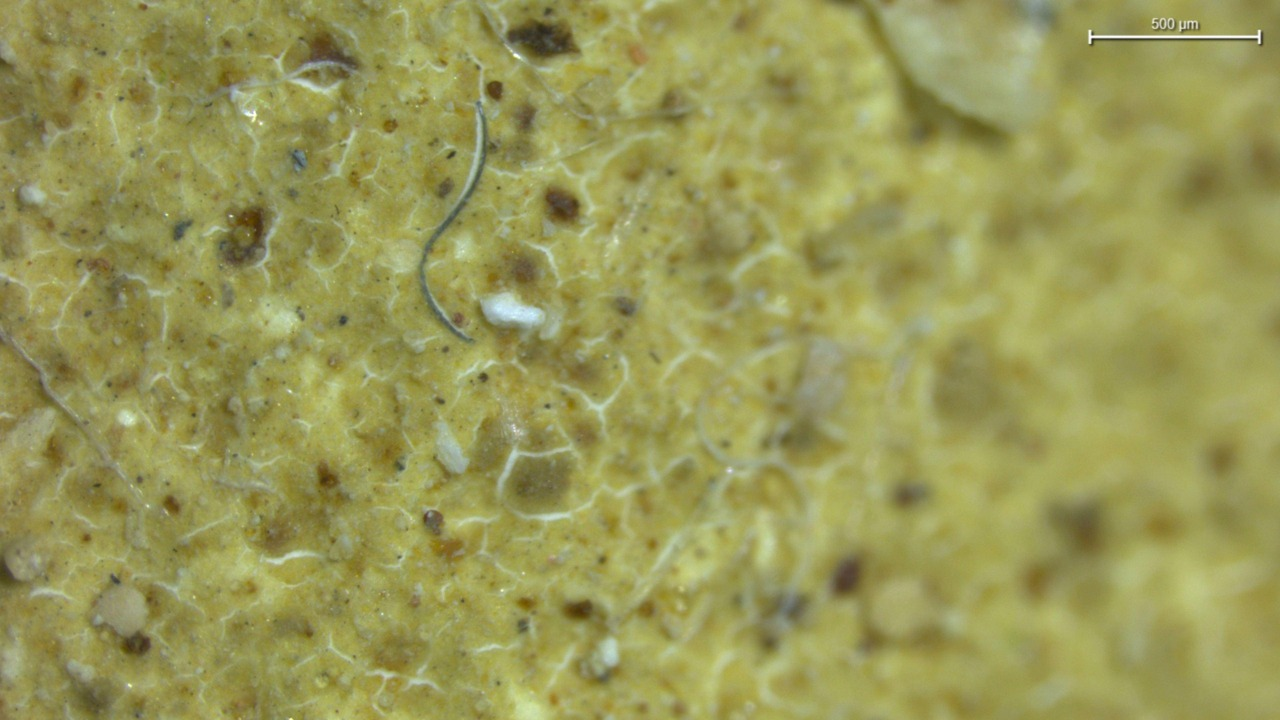microplastic_fragment: (92, 583, 148, 639), (481, 292, 545, 329), (3, 539, 48, 582), (434, 421, 468, 473)
